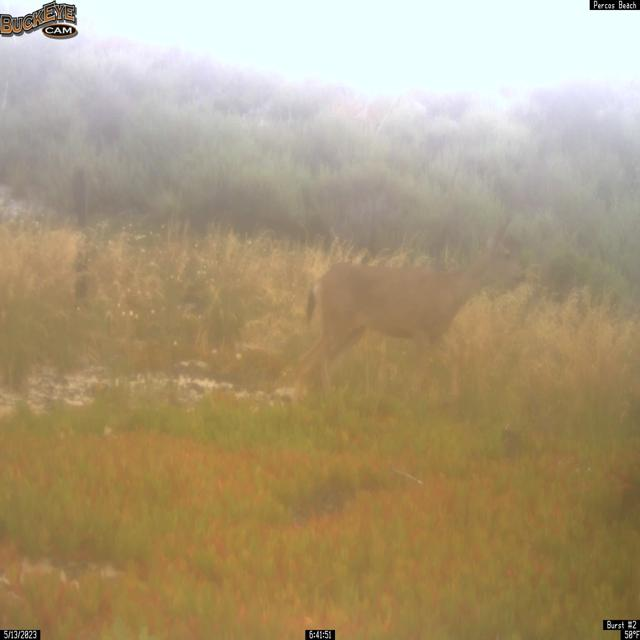deer: (292, 214, 526, 408)
